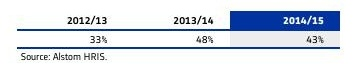table: (0, 0, 359, 64)
